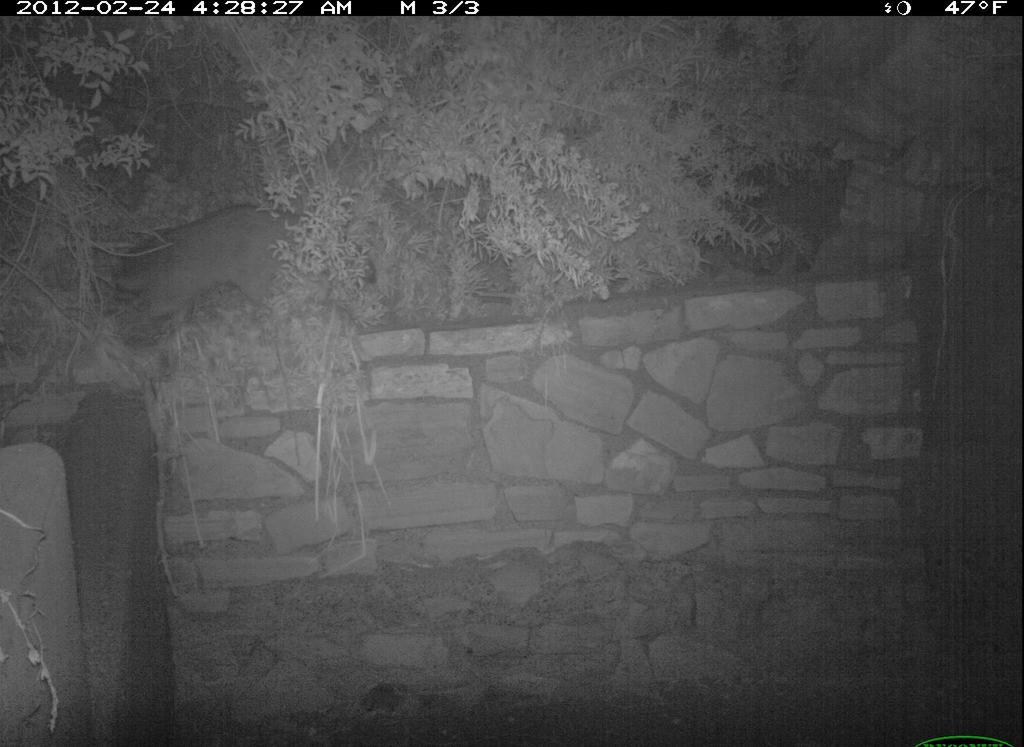raccoon: (109, 198, 380, 334)
